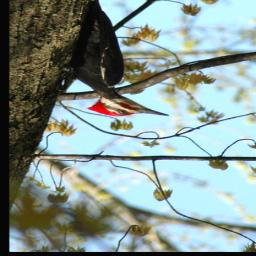Woodpecker: (60, 0, 176, 119)
